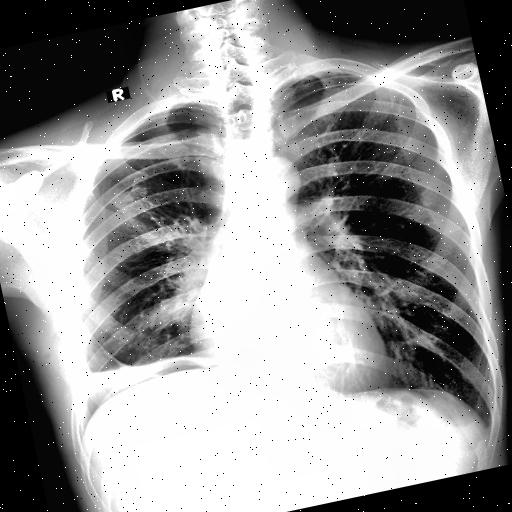12- Pneumothorax: (52, 97, 242, 253), (60, 100, 232, 234), (69, 358, 213, 431)
13- Pulmonary fibrosis: (78, 340, 234, 398), (110, 176, 208, 260), (75, 342, 218, 392), (196, 296, 218, 332)
7- Lung Opacity: (64, 310, 216, 416)
